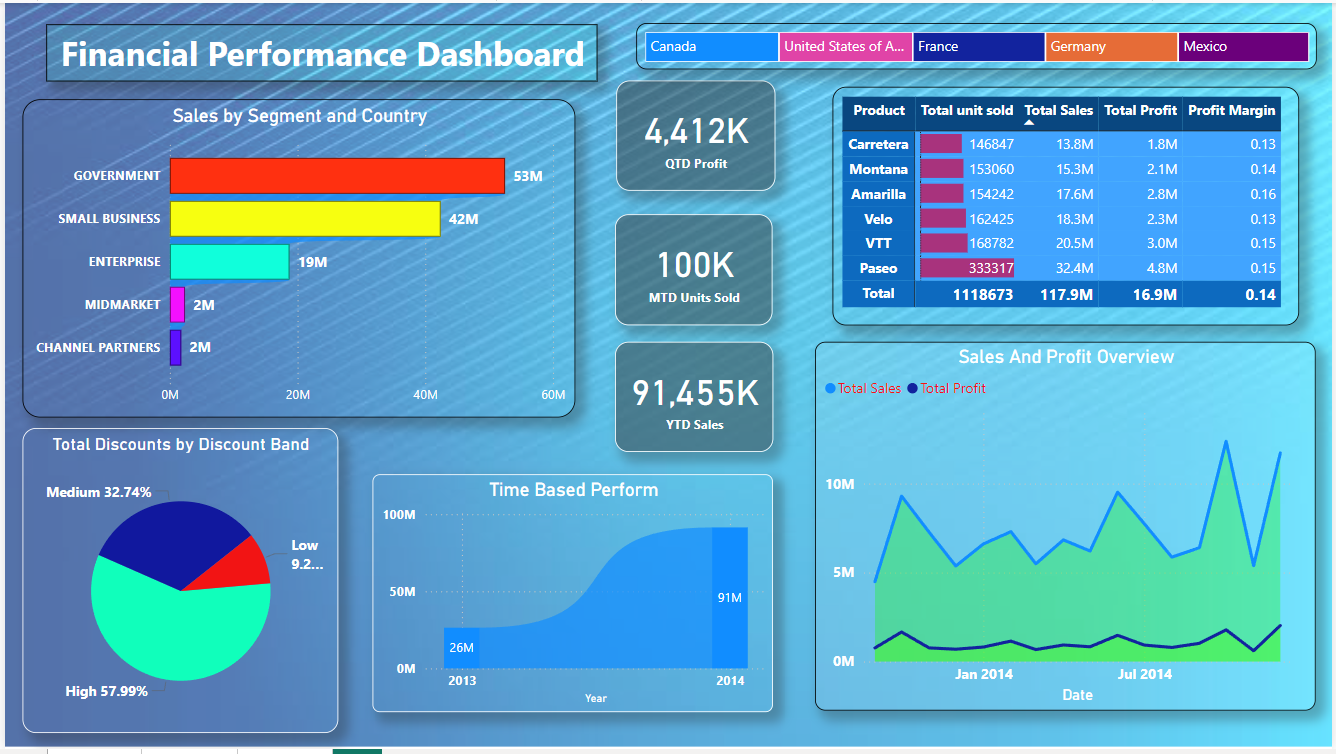

What the dashboard file says about the page in this screenshot:
{"tool":"powerbi","page":{"name":"Page 1","canvas":[1280,720],"ordinal":0},"visuals":[{"type":"lineChart","title":"Sales And Profit Overview","fields":{"Category":["Calender lookup.Date"],"Y":["measures (DAX).Total Sales","measures (DAX).Total Profit"]},"box":[782,327.5,483.3,356.4],"z":0},{"type":"barChart","title":"Sales by Segment and Country","fields":{"Y":["measures (DAX).Total Sales"],"Category":["Financial_Sample.Segment","Financial_Sample.Country"]},"box":[17.3,92.3,533.8,307.3],"z":1000},{"type":"pivotTable","fields":{"Rows":["Financial_Sample. Product "],"Values":["measures (DAX).Total unit sale","measures (DAX).Total Sales","measures (DAX).Total Profit","measures (DAX).Profit Margin"]},"box":[798.7,80.8,450,230.4],"z":2000},{"type":"pieChart","fields":{"Category":["Financial_Sample. Discount Band "],"Y":["measures (DAX).Total Discounts"]},"box":[17.3,409.7,304.4,294.3],"z":3000},{"type":"ribbonChart","title":"Time Based Perform","fields":{"Category":["Calender lookup.Year"],"Y":["measures (DAX).Total Sales"]},"box":[354.9,454.5,386.7,229.4],"z":4000},{"type":"card","fields":{"Values":["measures (DAX).MTD Units Sold"]},"box":[588.7,203.9,152,107.4],"z":5000},{"type":"card","fields":{"Values":["measures (DAX).QTD Profit"]},"box":[589.9,74.8,153.2,106.2],"z":6000},{"type":"card","fields":{"Values":["measures (DAX).YTD Sales"]},"box":[588.6,327.5,152.9,106.8],"z":7000},{"type":"textbox","box":[40.4,20.2,532.4,54.8],"z":8000},{"type":"treemap","fields":{"Group":["Financial_Sample.Country"],"Values":["Sum(Financial_Sample. Sale Price )"]},"box":[608.8,18.8,656.5,44.7],"z":9000}]}

Visuals, with their boxes in screenshot pixels (x1, y1, x2, y2), scaled from the page's 1280x720 canvas onto the 1336x754 screenshot:
"Sales And Profit Overview" lineChart: detection(816, 343, 1321, 716)
"Sales by Segment and Country" barChart: detection(18, 97, 575, 418)
pivotTable - Financial_Sample. Product  x measures (DAX).Total unit sale: detection(834, 85, 1303, 326)
pieChart - Financial_Sample. Discount Band  x measures (DAX).Total Discounts: detection(18, 429, 336, 737)
"Time Based Perform" ribbonChart: detection(370, 476, 774, 716)
card - measures (DAX).MTD Units Sold: detection(614, 214, 773, 326)
card - measures (DAX).QTD Profit: detection(616, 78, 776, 190)
card - measures (DAX).YTD Sales: detection(614, 343, 774, 455)
textbox: detection(42, 21, 598, 79)
treemap - Financial_Sample.Country x Sum(Financial_Sample. Sale Price ): detection(635, 20, 1321, 66)
